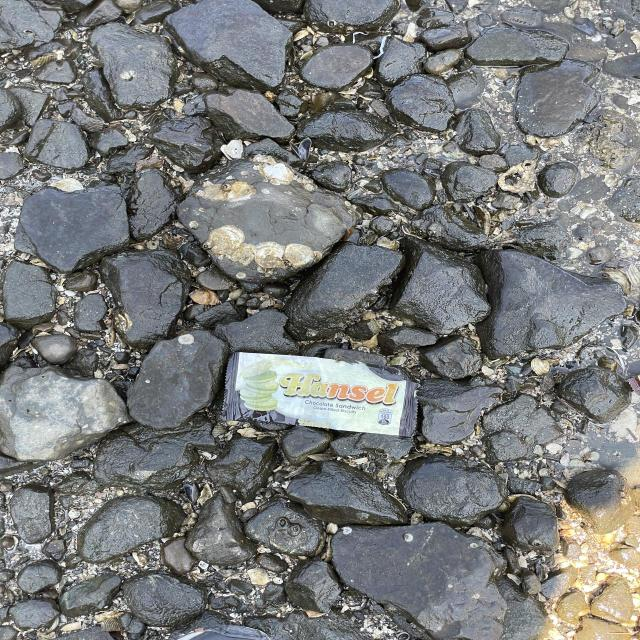plastic_waste: (229, 354, 424, 439)
